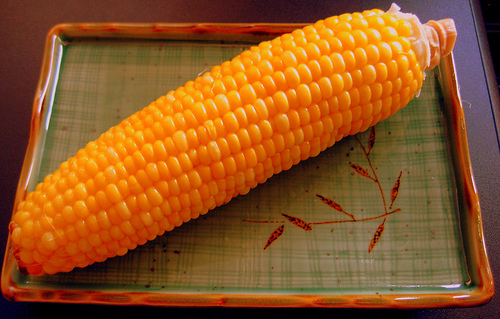corn: (4, 6, 459, 279)
